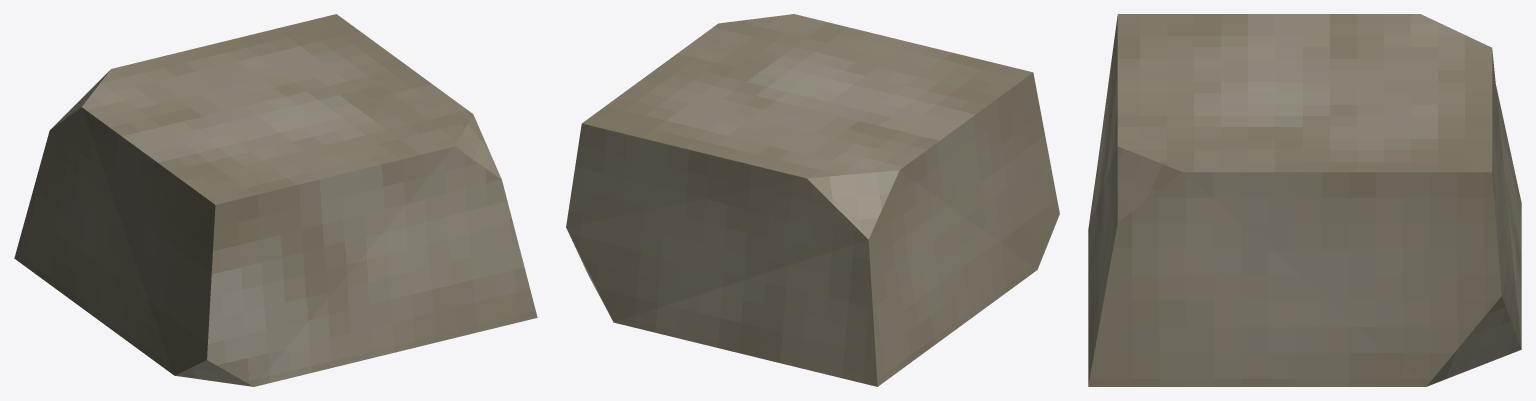
Rendered from rock_small2_fbx.fbx.
The picture shows the model from 3 angles, left to right: view 1: azimuth 30°, elevation 25°; view 2: azimuth 150°, elevation 25°; view 3: azimuth 270°, elevation 25°; orthographic projection. The views are drawn at different scales.
Visible parts, largest first — view 1: rock_small2; view 2: rock_small2; view 3: rock_small2.
Boxes of the visible parts, x1,y1,x2,y2 form: rock_small2: (14, 14, 537, 386); rock_small2: (566, 14, 1059, 386); rock_small2: (1088, 14, 1521, 386).
Bounding box in the file's own units: 100 × 51.46 × 100.
Materials: 1 (1 with a texture image).
